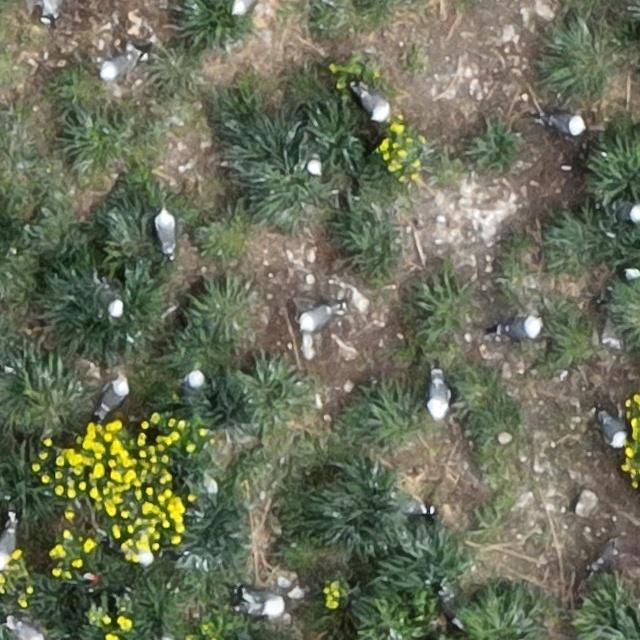umineko: (242, 590, 286, 622), (93, 281, 124, 319), (360, 88, 391, 120), (98, 380, 126, 415), (428, 376, 449, 418), (102, 54, 136, 78), (501, 316, 538, 338), (156, 212, 176, 252), (300, 305, 334, 328), (545, 114, 583, 134), (590, 542, 618, 569), (602, 414, 626, 444), (188, 369, 210, 396), (13, 621, 44, 640), (0, 525, 14, 566), (42, 0, 62, 18), (232, 0, 256, 14), (307, 157, 322, 175), (629, 202, 639, 224)
